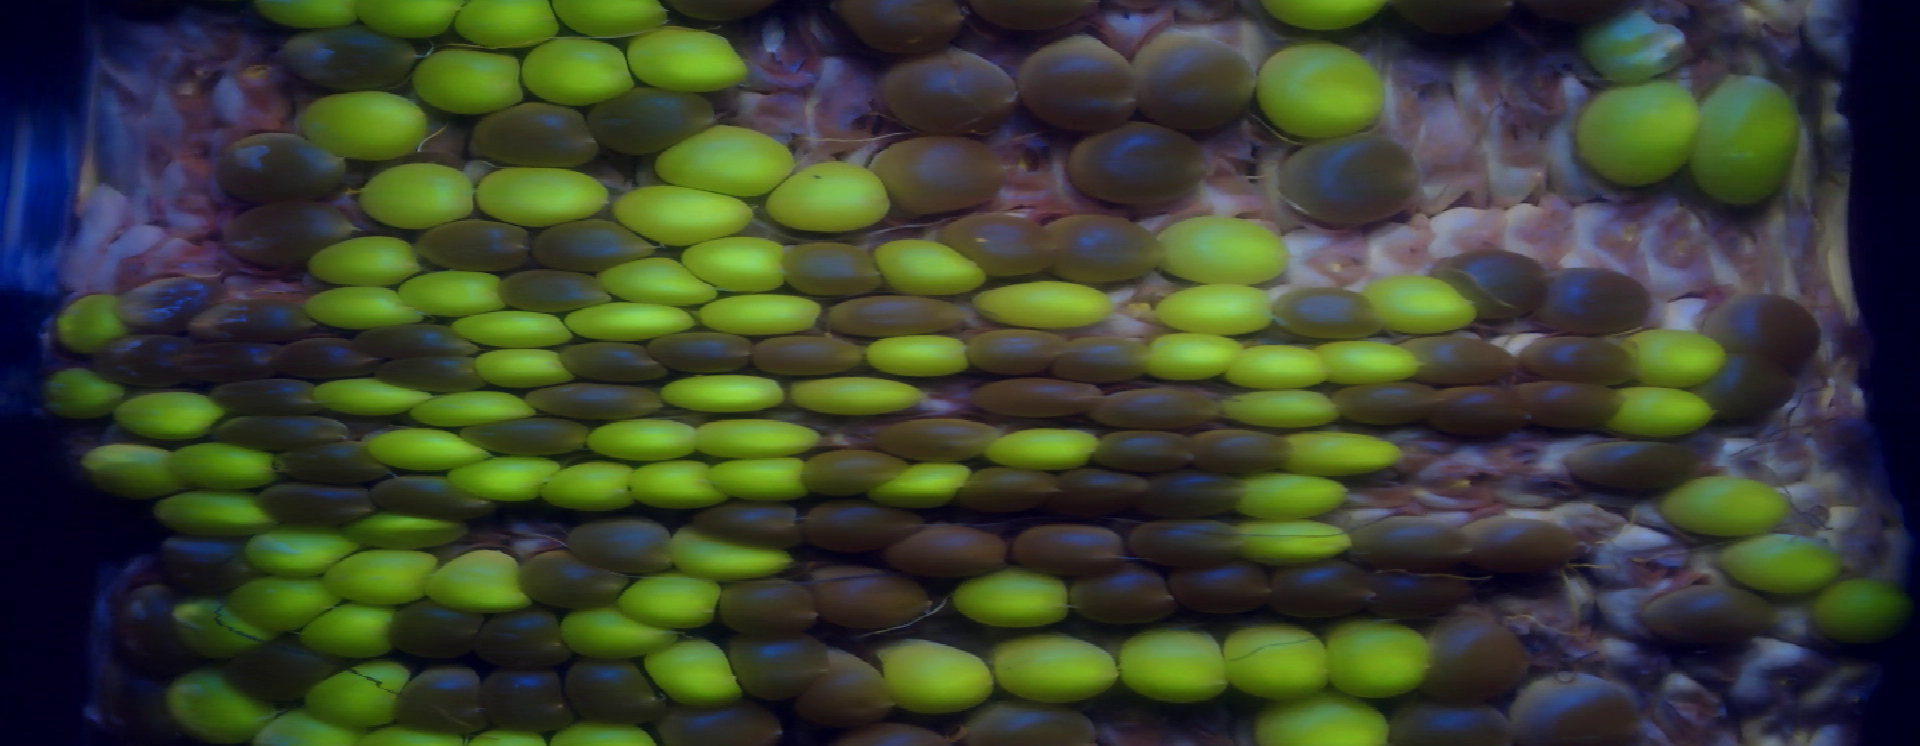fluorescent: (1690, 71, 1791, 208), (1251, 42, 1389, 138), (1580, 76, 1700, 186), (866, 631, 996, 715), (1221, 620, 1340, 704), (1116, 626, 1232, 709), (1325, 611, 1431, 699), (982, 632, 1120, 699), (1156, 223, 1293, 288), (767, 163, 889, 234), (632, 22, 748, 96), (658, 129, 793, 191), (1147, 279, 1286, 338), (620, 180, 753, 240), (1722, 530, 1842, 597), (165, 661, 264, 741), (296, 89, 425, 151), (640, 638, 747, 710), (147, 481, 284, 537), (520, 40, 637, 105), (666, 522, 797, 579), (971, 279, 1117, 331), (1615, 327, 1728, 393), (582, 416, 716, 472), (415, 47, 527, 111), (83, 439, 189, 507), (426, 544, 531, 612), (1272, 423, 1406, 477), (359, 163, 474, 225), (478, 164, 602, 222), (1670, 478, 1788, 538), (1365, 274, 1480, 336), (696, 289, 829, 342), (1811, 579, 1913, 647), (1258, 699, 1398, 746), (227, 575, 338, 633), (307, 661, 415, 722), (564, 605, 676, 661), (656, 371, 793, 416), (171, 597, 277, 655), (111, 390, 231, 441), (411, 379, 534, 429), (791, 372, 929, 416), (564, 303, 702, 347), (876, 238, 976, 298), (331, 545, 437, 601), (300, 285, 422, 334), (987, 421, 1103, 473), (688, 236, 796, 292), (1602, 387, 1712, 441), (623, 570, 729, 626), (302, 600, 400, 660), (954, 572, 1067, 624), (1236, 472, 1351, 521), (711, 456, 816, 510), (867, 332, 976, 383), (173, 439, 283, 489), (1234, 521, 1359, 565), (460, 303, 571, 352), (1224, 341, 1335, 390), (397, 271, 509, 318), (598, 257, 707, 306), (1313, 337, 1427, 383), (365, 426, 487, 469), (451, 1, 555, 51), (343, 508, 473, 548), (882, 461, 973, 516), (694, 418, 818, 458), (1145, 333, 1249, 381), (311, 244, 422, 288), (1272, 1, 1401, 39), (456, 452, 555, 501), (253, 529, 359, 575), (629, 459, 731, 506), (36, 370, 125, 423), (553, 1, 673, 39), (542, 462, 634, 511), (475, 345, 574, 390), (310, 375, 427, 412), (255, 706, 361, 746), (55, 296, 130, 352), (1224, 394, 1340, 429), (361, 1, 465, 38), (245, 1, 362, 33), (359, 725, 489, 746), (550, 720, 648, 746)
nonfluorescent: (1064, 115, 1191, 211), (1283, 141, 1420, 224), (1128, 36, 1256, 122), (1020, 40, 1140, 134), (880, 55, 1022, 134), (719, 620, 831, 706), (1512, 679, 1651, 746), (1636, 583, 1784, 646), (804, 559, 933, 627), (1427, 610, 1528, 696), (476, 100, 606, 167), (1700, 295, 1832, 359), (92, 659, 186, 746), (1548, 265, 1658, 338), (562, 653, 672, 726), (223, 201, 362, 258), (1048, 216, 1167, 283), (797, 650, 902, 726), (283, 26, 421, 83), (838, 1, 973, 59), (876, 145, 1003, 206), (953, 206, 1060, 278), (225, 632, 340, 699), (222, 134, 347, 195), (116, 589, 200, 681), (1462, 516, 1583, 578), (517, 551, 634, 614), (387, 666, 491, 736), (1438, 255, 1545, 321), (1700, 352, 1798, 423), (585, 91, 715, 143), (529, 219, 656, 272), (713, 575, 824, 635), (480, 661, 573, 733), (1569, 441, 1700, 490), (885, 526, 1016, 575), (269, 442, 404, 489), (1270, 559, 1373, 619), (567, 518, 686, 570), (1007, 526, 1138, 571), (470, 608, 571, 666), (1273, 285, 1385, 337), (1404, 337, 1515, 388), (1093, 390, 1224, 432), (831, 296, 973, 336), (370, 472, 500, 514), (389, 601, 487, 658), (418, 222, 533, 269), (973, 381, 1104, 423), (1390, 704, 1520, 746), (1167, 566, 1276, 615), (800, 505, 917, 550), (93, 339, 207, 386), (527, 383, 666, 421), (244, 481, 378, 521), (460, 416, 602, 453), (784, 243, 880, 296), (1356, 521, 1476, 563), (1439, 387, 1536, 440), (970, 706, 1095, 746), (160, 538, 261, 588), (648, 330, 765, 372), (1382, 1, 1522, 37), (960, 464, 1060, 513), (1367, 563, 1460, 616), (1128, 521, 1248, 561), (211, 372, 327, 414), (1070, 570, 1177, 615), (694, 499, 806, 541), (1141, 472, 1251, 514), (1524, 382, 1618, 432), (353, 323, 489, 358), (756, 331, 867, 372), (1189, 430, 1297, 473), (1097, 430, 1204, 473), (1523, 343, 1633, 383), (114, 282, 223, 322), (171, 341, 287, 379), (551, 343, 670, 380), (216, 415, 358, 446), (1344, 385, 1442, 429), (806, 450, 900, 495), (376, 355, 491, 392), (972, 328, 1067, 370), (1051, 477, 1147, 517), (504, 272, 612, 307), (1059, 337, 1150, 379), (196, 303, 313, 334), (883, 421, 996, 454), (279, 341, 377, 379)
